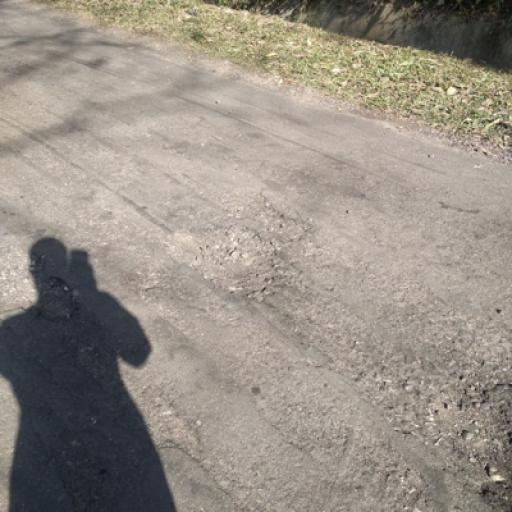pothole: (164, 224, 286, 302), (425, 390, 512, 478), (229, 190, 315, 240)
